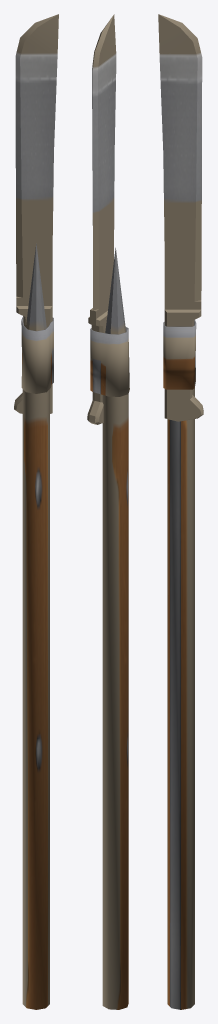
The model's file is PlankSpearMachete.fbx.
3 renders of one model, left to right at view 1: azimuth 90°, elevation 25°; view 2: azimuth 150°, elevation 25°; view 3: azimuth 270°, elevation 25°, orthographic.
Parts seen in each view (by area): view 1: P Machete; view 2: P Machete; view 3: P Machete.
Part boxes in pixels (left/top/right/bottom): P Machete: left=14, top=14, right=58, bottom=1009; P Machete: left=87, top=14, right=129, bottom=1009; P Machete: left=158, top=14, right=203, bottom=1009.
Bounding box in the file's own units: 0.0334 × 0.958 × 0.0396.
